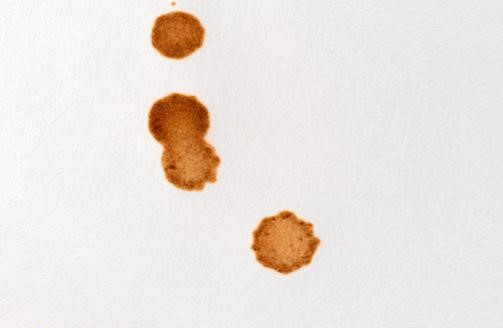stain: (145, 90, 224, 195), (249, 210, 323, 279), (146, 9, 210, 65)
